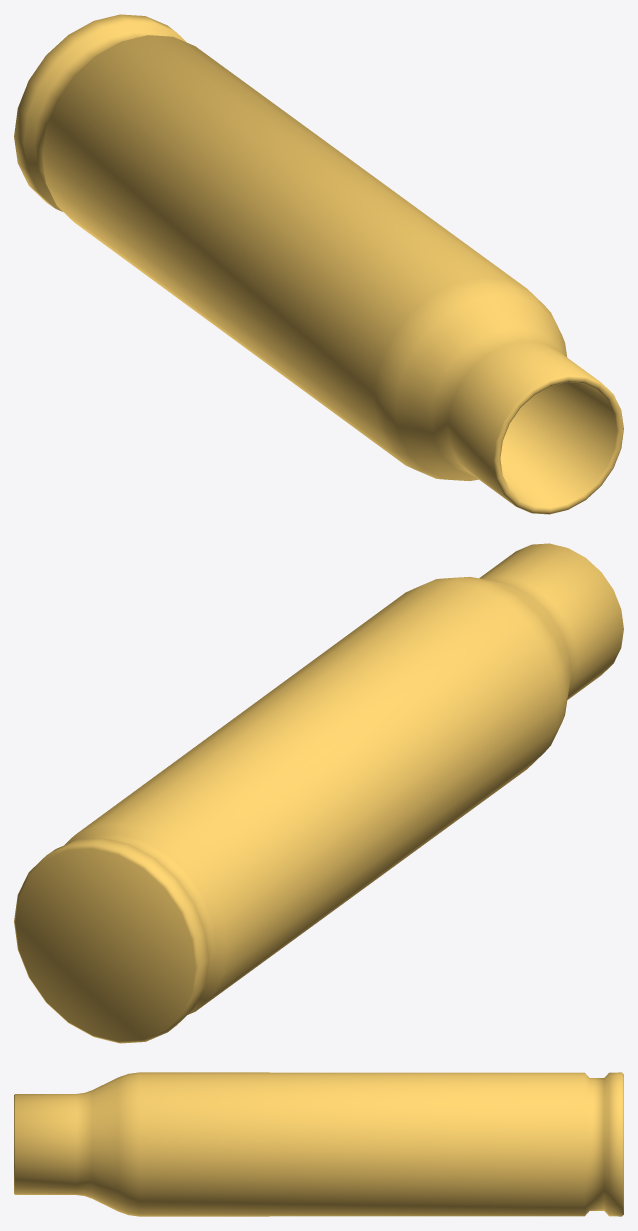
File: Minigun_Shell.fbx
3 renders of one model, top to bottom at view 1: azimuth 30°, elevation 25°; view 2: azimuth 150°, elevation 25°; view 3: azimuth 270°, elevation 25°, orthographic. The views are drawn at different scales.
Parts seen in each view (by area): view 1: Minigun_Shell; view 2: Minigun_Shell; view 3: Minigun_Shell.
Part boxes in pixels (box(x1,y1,x2,y2)): Minigun_Shell: box(14, 14, 623, 514); Minigun_Shell: box(14, 543, 623, 1043); Minigun_Shell: box(14, 1072, 623, 1216).
Bounding box in the file's own units: 1.53 × 1.52 × 6.49.
